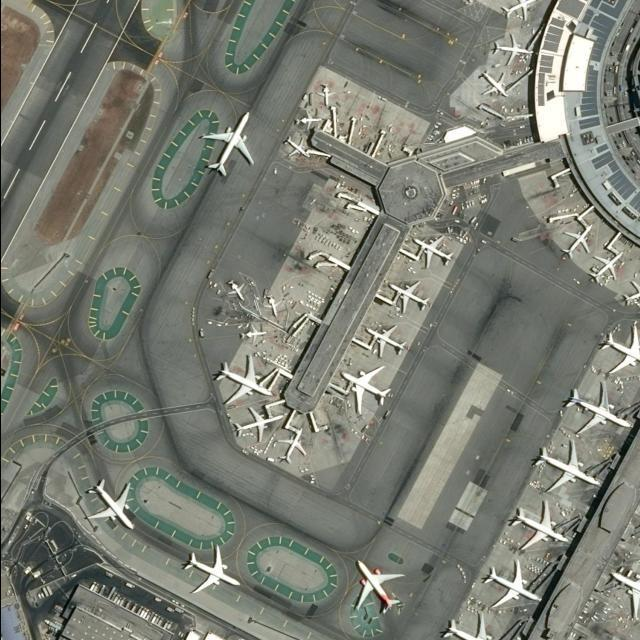Aircraft: (199, 112, 255, 180), (530, 441, 598, 493), (563, 386, 631, 437), (505, 499, 567, 551), (212, 353, 271, 407), (180, 543, 240, 596), (82, 478, 136, 535), (479, 562, 539, 610), (348, 563, 402, 614), (339, 366, 393, 414), (598, 326, 640, 378), (607, 566, 640, 619), (234, 408, 282, 443), (411, 234, 453, 270), (387, 281, 429, 314), (365, 324, 405, 358), (440, 617, 499, 640), (491, 35, 529, 65), (275, 431, 305, 467), (589, 254, 625, 284), (474, 71, 510, 101), (498, 0, 540, 24), (560, 228, 592, 259), (620, 281, 640, 311), (283, 136, 308, 159), (293, 111, 318, 131), (242, 325, 268, 344), (225, 279, 245, 303), (262, 295, 282, 319), (316, 85, 334, 107)
